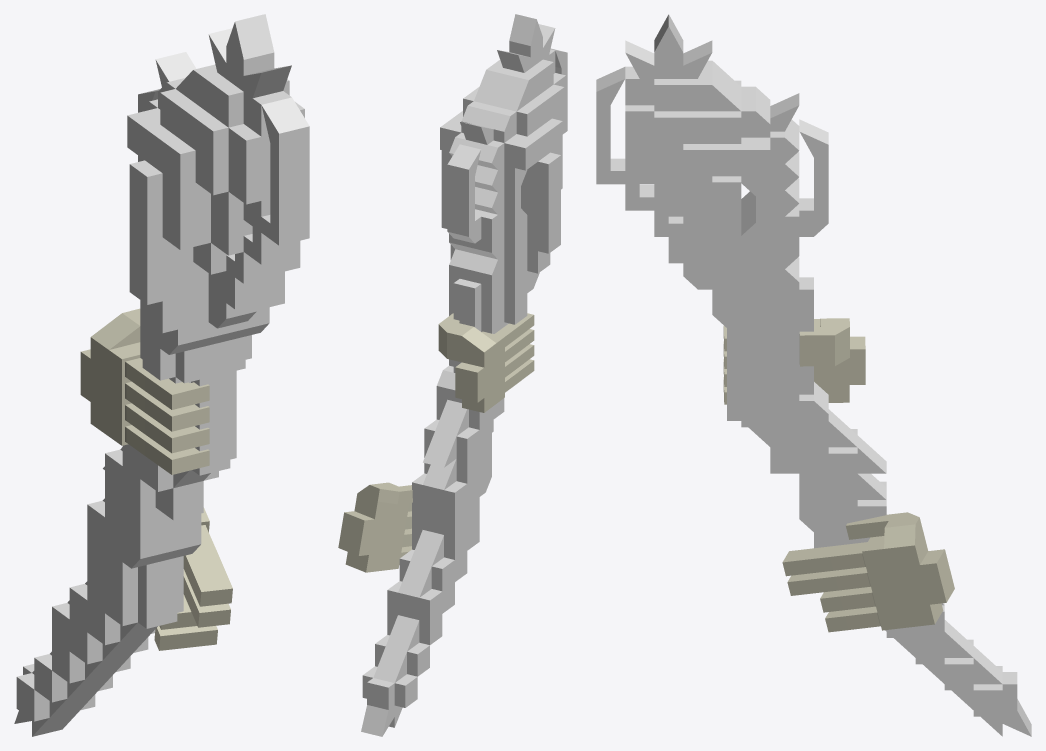
The model's file is SkeleHandsStaff.fbx.
The picture shows the model from 3 angles, left to right: view 1: azimuth 30°, elevation 25°; view 2: azimuth 150°, elevation 25°; view 3: azimuth 270°, elevation 25°; orthographic projection. The views are drawn at different scales.
Parts seen in each view (by area): view 1: SkeleHandsStaff; view 2: SkeleHandsStaff; view 3: SkeleHandsStaff.
Part boxes in pixels (x1=…): SkeleHandsStaff: x1=14, y1=14, x2=309, y2=736; SkeleHandsStaff: x1=338, y1=14, x2=567, y2=736; SkeleHandsStaff: x1=596, y1=14, x2=1031, y2=736.
Bounding box in the file's own units: 28.77 × 135 × 75.
